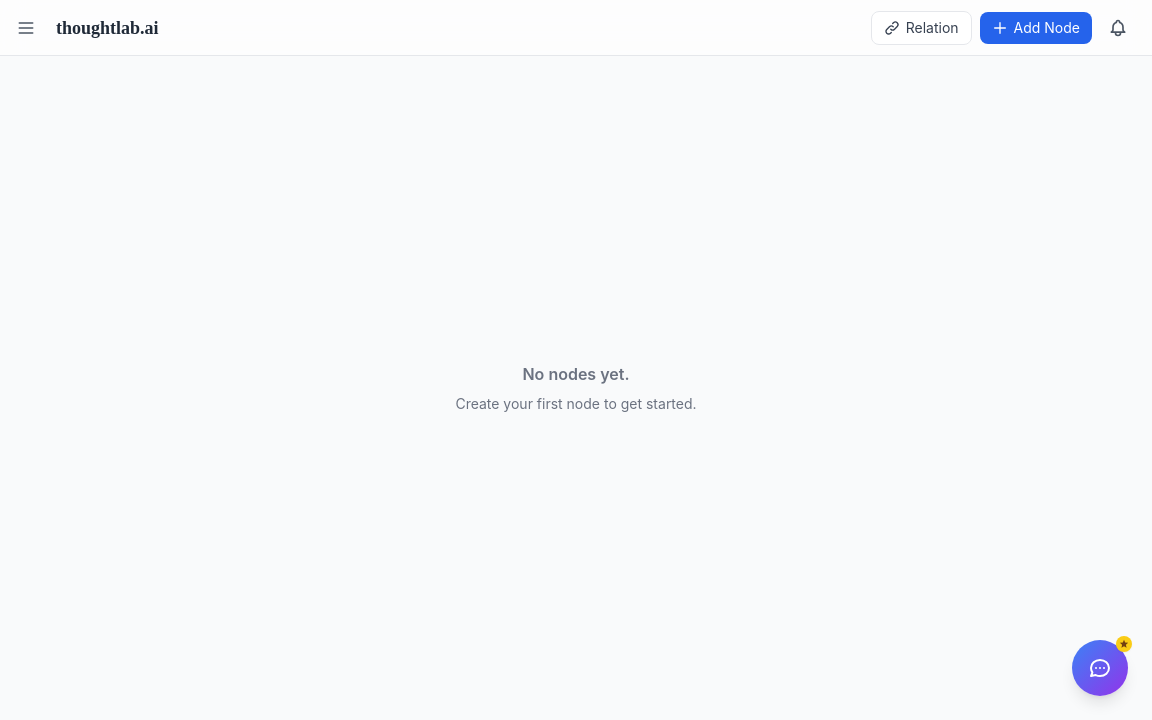
Test case: App › opens modal when Add Node button is clicked
The width and height of the screenshot is (1152, 720).
What coordinates should you click on to do the following:
click the button "Add Node"
I would click on:
 (1036, 28)
Its box is [980,12,1092,44].
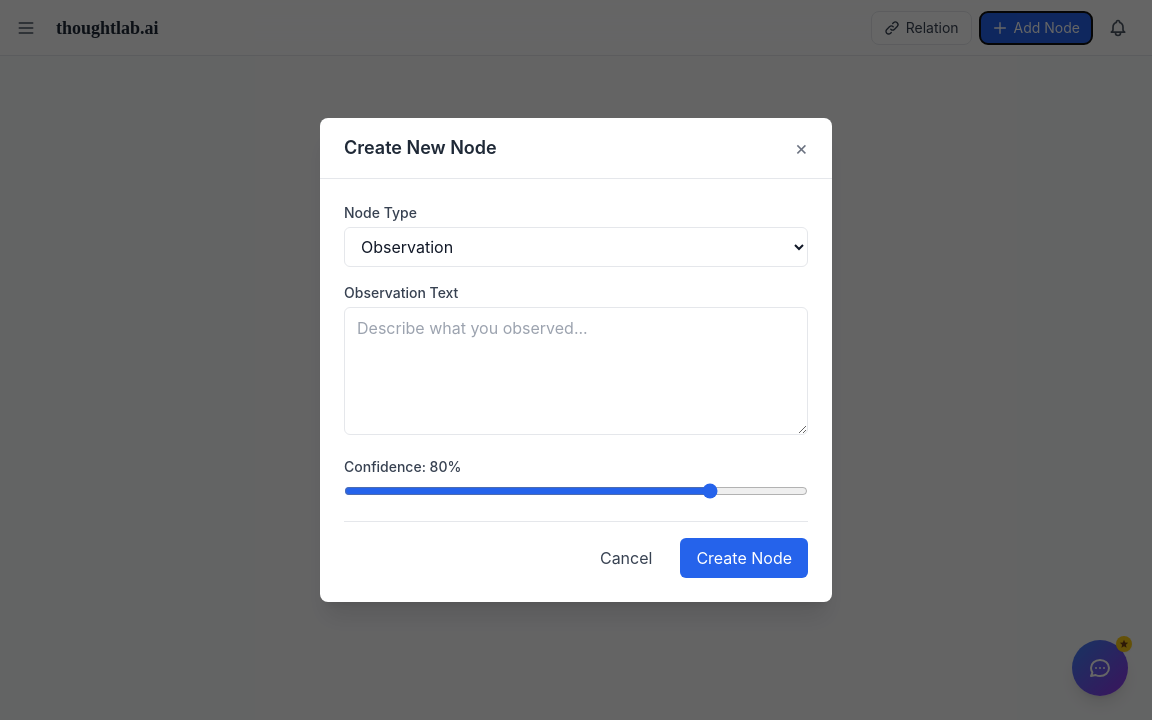
Result: the heading "Create New Node" is shown at [344,134,497,162]
